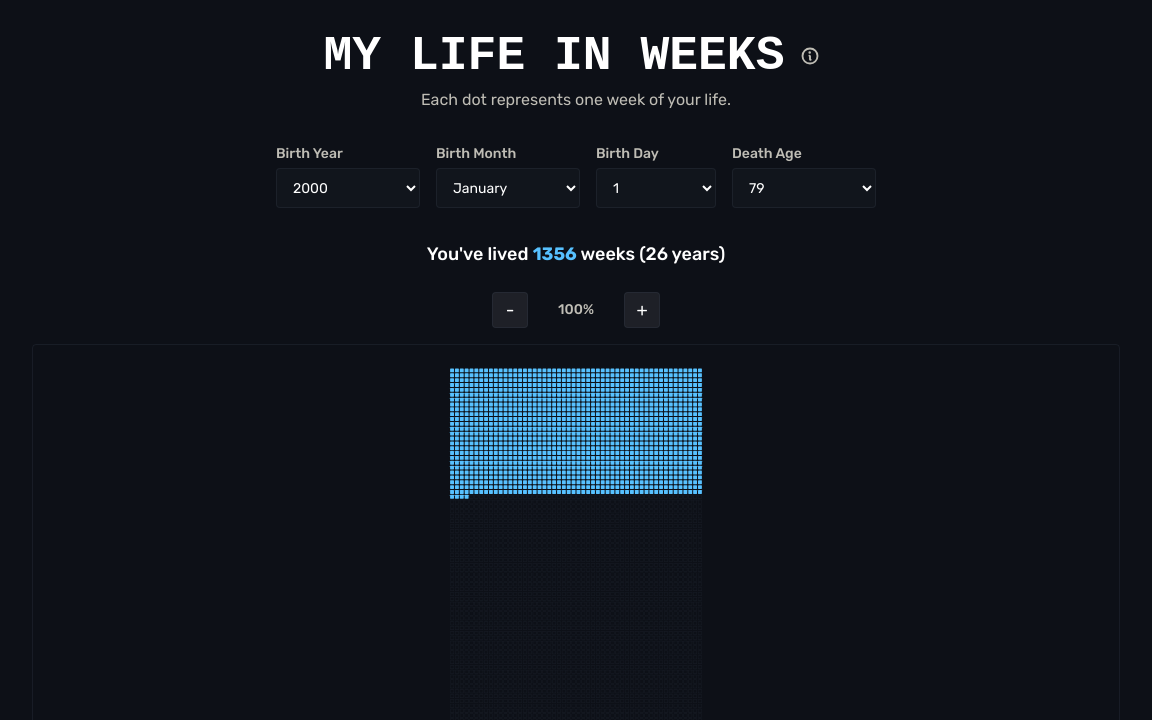
Test: LifeView › updates weeks lived when the birth date changes
Select "1990" in the dropdown labelled "Birth Year": (348, 188) [276,168,420,208]
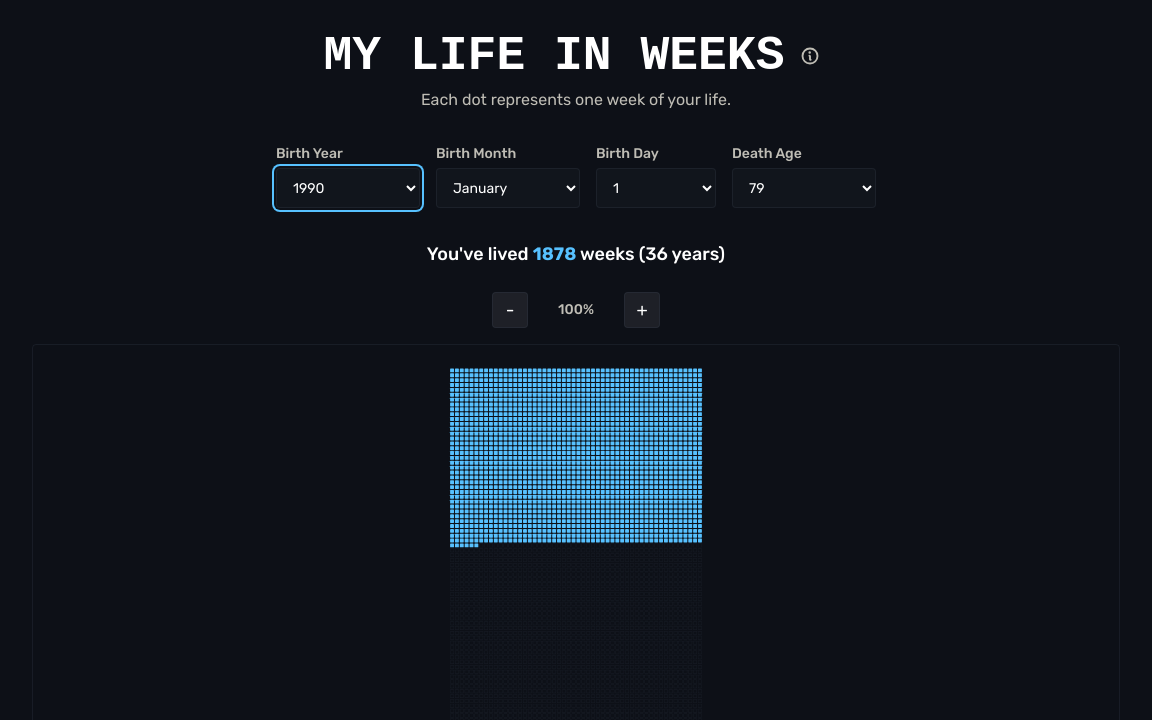
Select "June" in the dropdown labelled "Birth Month": (508, 188) [436,168,580,208]
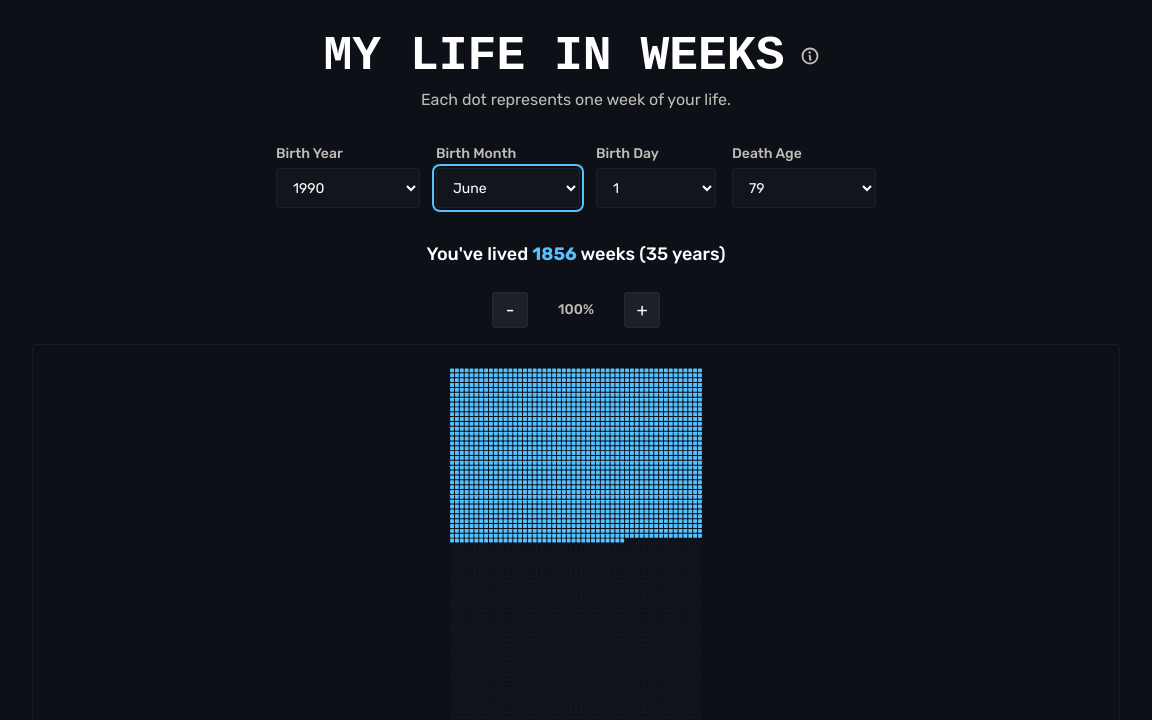
Select "15" in the dropdown labelled "Birth Day": (656, 188) [596,168,716,208]
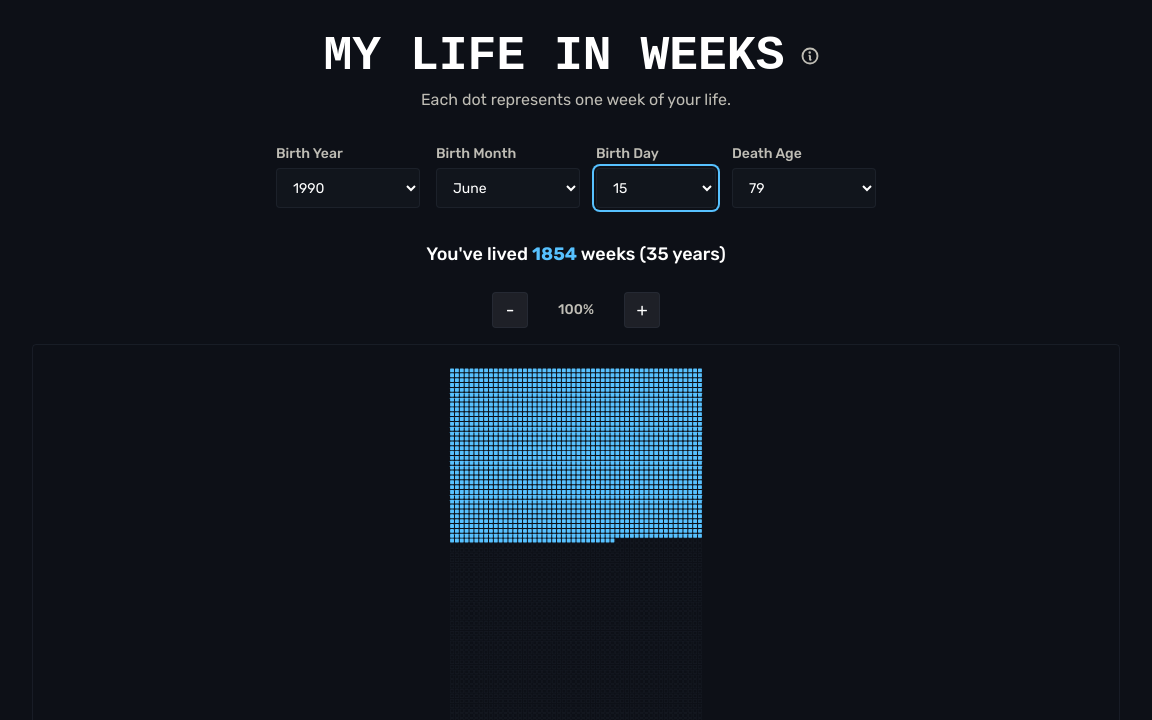
expect the message reads "You've lived 1854 weeks (35 years)": met, box [426,243,726,265]
